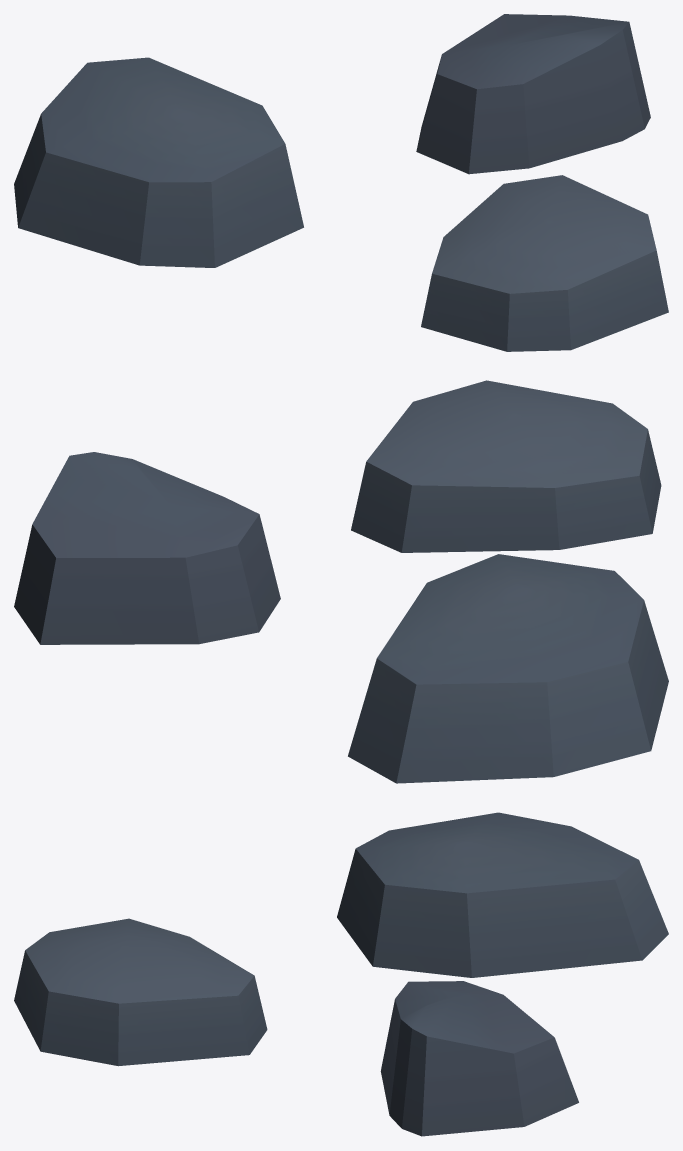
The model's file is Rocks_B_2.fbx.
3 renders of one model, top to bottom at view 1: azimuth 30°, elevation 25°; view 2: azimuth 150°, elevation 25°; view 3: azimuth 270°, elevation 25°, orthographic. The views are drawn at different scales.
Parts seen in each view (by area): view 1: Rocks_B_2; view 2: Rocks_B_2; view 3: Rocks_B_2.
Boxes of the visible parts, x1,y1,x2,y2 form: Rocks_B_2: [14, 14, 668, 351]; Rocks_B_2: [14, 380, 668, 783]; Rocks_B_2: [14, 812, 668, 1136].
Bounding box in the file's own units: 144 × 23.45 × 149.
